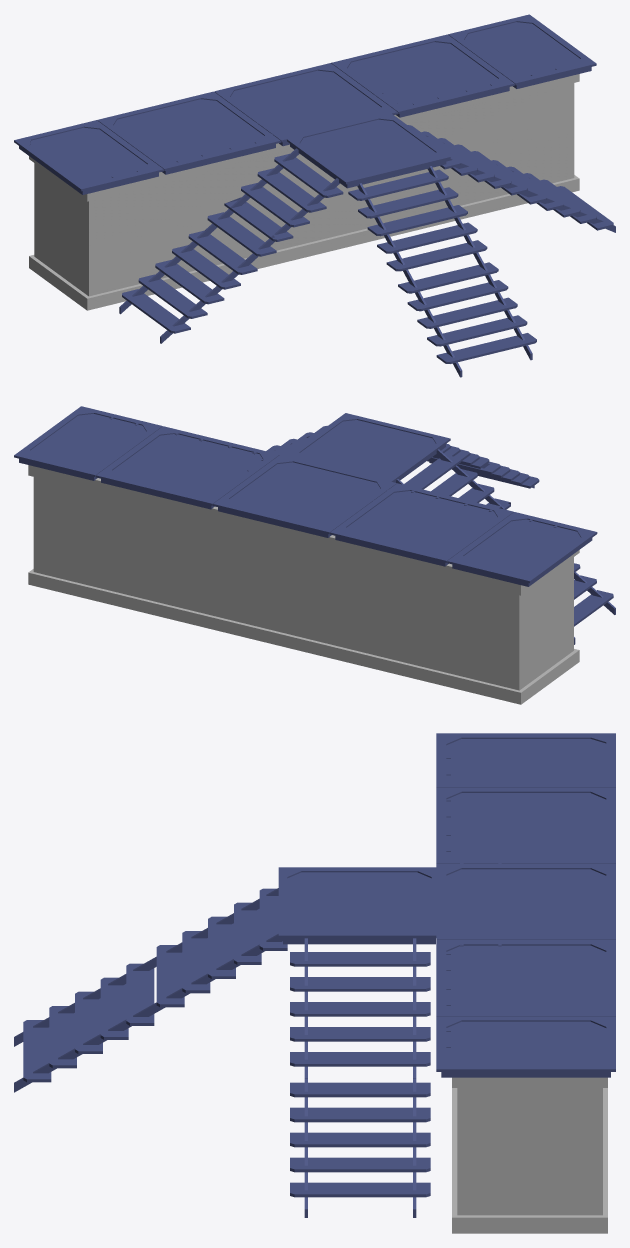
Rendered from stair2.fbx.
3 views of the same model, one above another, from view 1: azimuth 30°, elevation 25°; view 2: azimuth 150°, elevation 25°; view 3: azimuth 270°, elevation 25° (orthographic). The views are drawn at different scales.
Parts seen in each view (by area): view 1: Line010; view 2: Line010; view 3: Line010.
Part boxes in pixels (x1,y1,x2,y2): Line010: [14, 14, 615, 377]; Line010: [14, 406, 615, 704]; Line010: [14, 733, 615, 1233].
Bounding box in the file's own units: 1475 × 351 × 1117.
